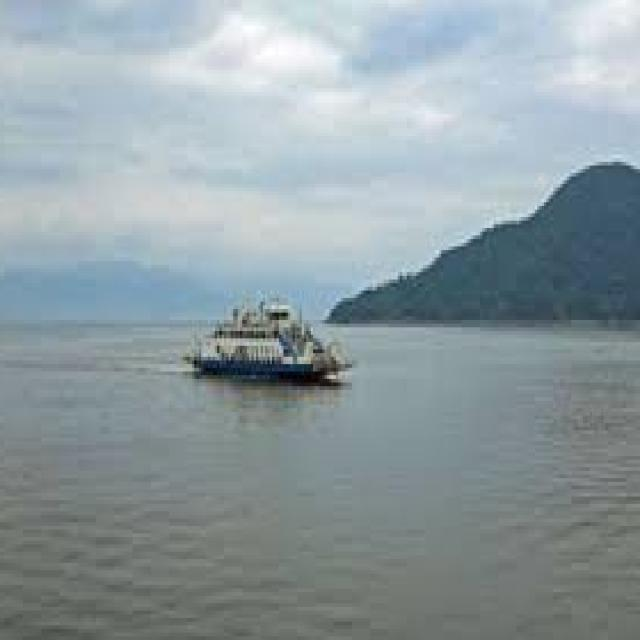passenger ship: (199, 276, 356, 394)
